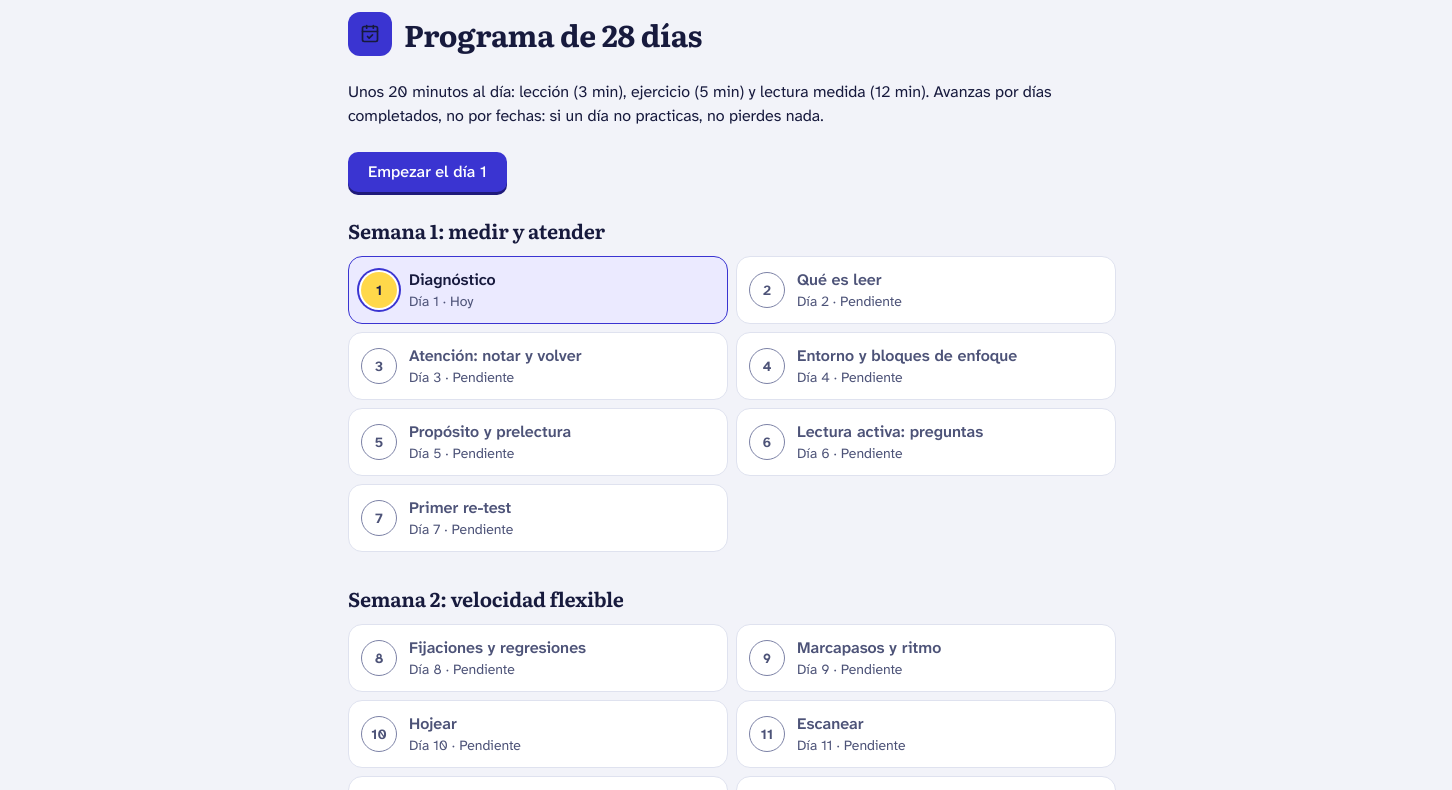
Test: ProgramPage › sin progreso propone el día 1
What coordinates should you click on to do the following:
click the link "Empezar el día 1"
I would click on:
 (427, 172)
Its box is [348,152,507,192].
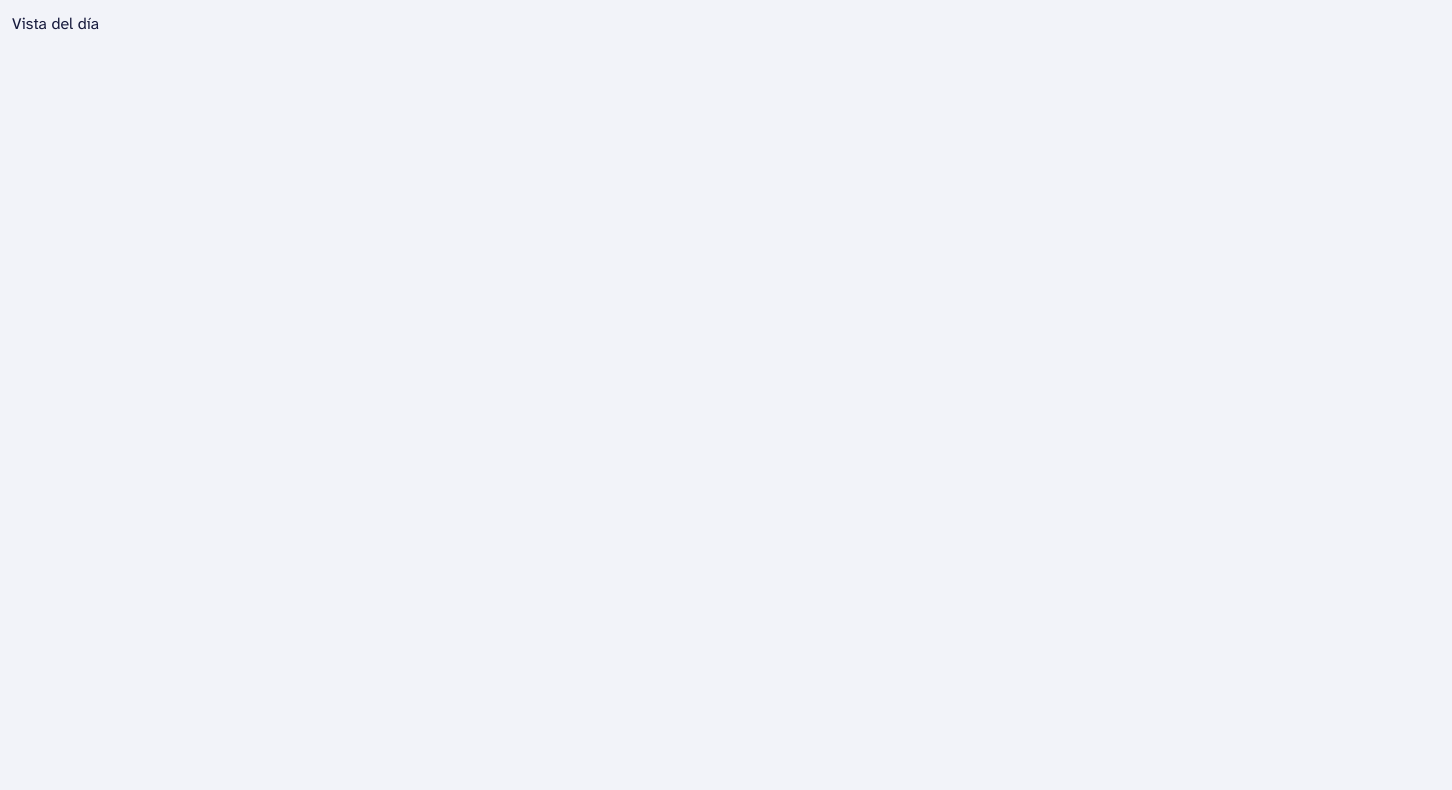
Result: the text "Vista del día" is shown at [12,13,99,34]
